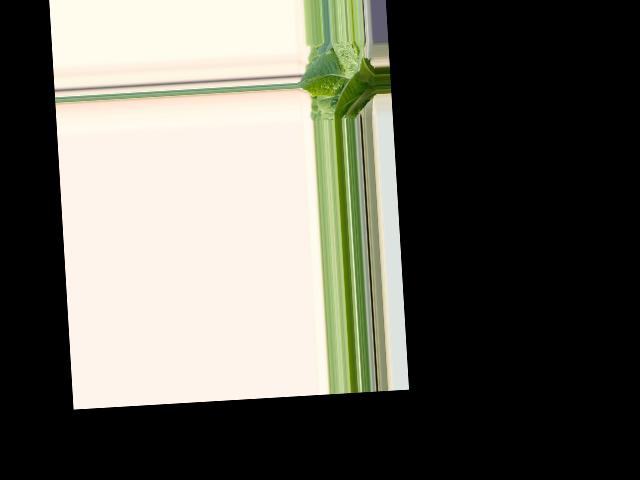lettuce: (302, 47, 378, 120)
